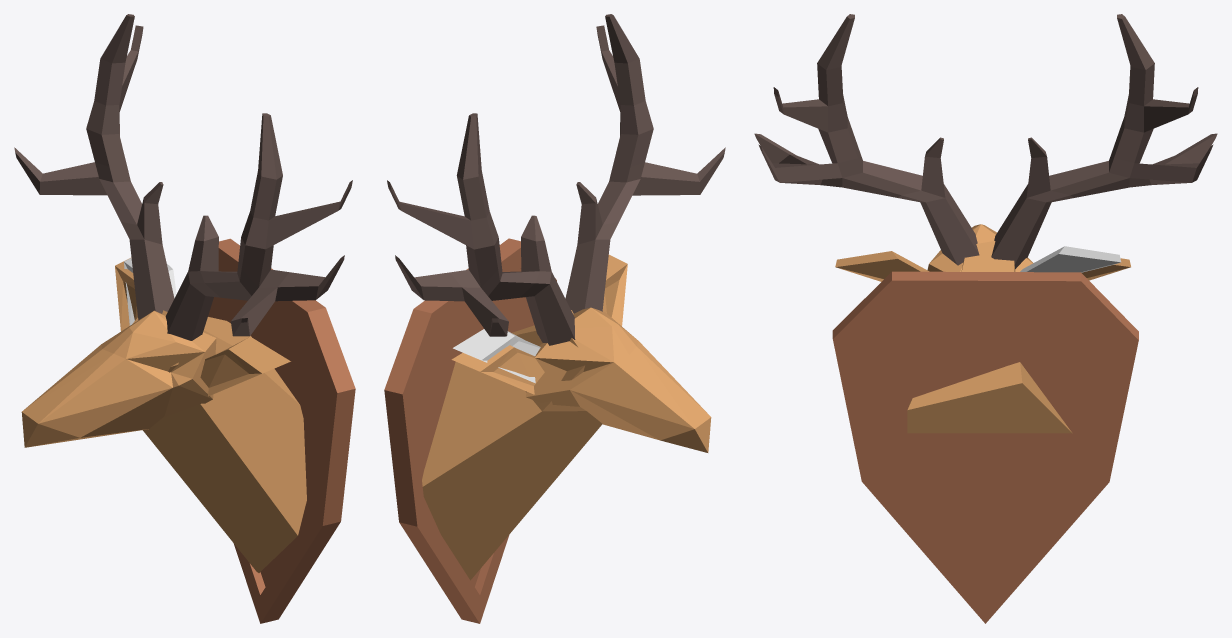
Rendered from CERF.fbx.
3 renders of one model, left to right at view 1: azimuth 30°, elevation 25°; view 2: azimuth 150°, elevation 25°; view 3: azimuth 270°, elevation 25°, orthographic.
Visible parts, largest first — view 1: Cylinder; view 2: Cylinder, Cube; view 3: Cylinder, Cube.
Boxes of the visible parts, x1,y1,x2,y2 form: Cylinder: (14, 14, 355, 623); Cylinder: (384, 14, 725, 623); Cube: (453, 329, 540, 383); Cylinder: (754, 14, 1217, 623); Cube: (1020, 246, 1121, 272).
Size of the model in its own units: 1743 by 3597 by 2653.
